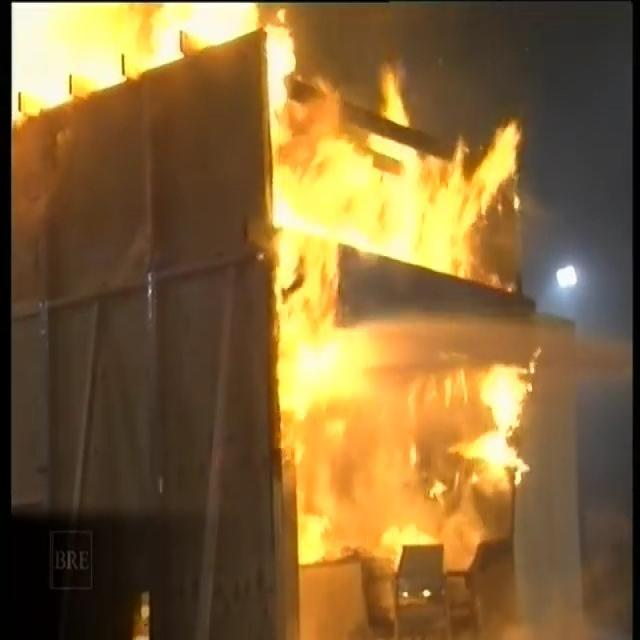Fire: (8, 1, 566, 608)
